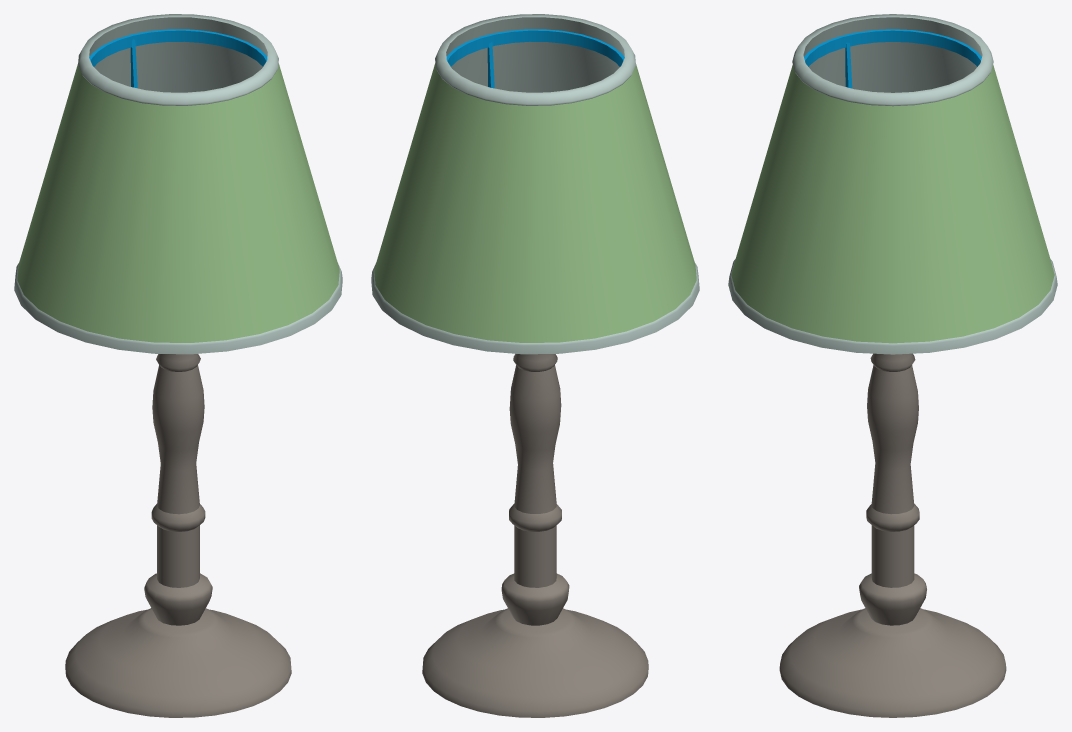
The model's file is lampClassicTable.fbx.
3 renders of one model, left to right at view 1: azimuth 30°, elevation 25°; view 2: azimuth 150°, elevation 25°; view 3: azimuth 270°, elevation 25°, orthographic.
Parts seen in each view (by area): view 1: lampClassicTable; view 2: lampClassicTable; view 3: lampClassicTable.
Part boxes in pixels (x1,y1,x2,y2): lampClassicTable: [14, 14, 342, 717]; lampClassicTable: [371, 14, 699, 717]; lampClassicTable: [728, 14, 1057, 717].
Size of the model in its own units: 36.17 by 74.49 by 36.17.
